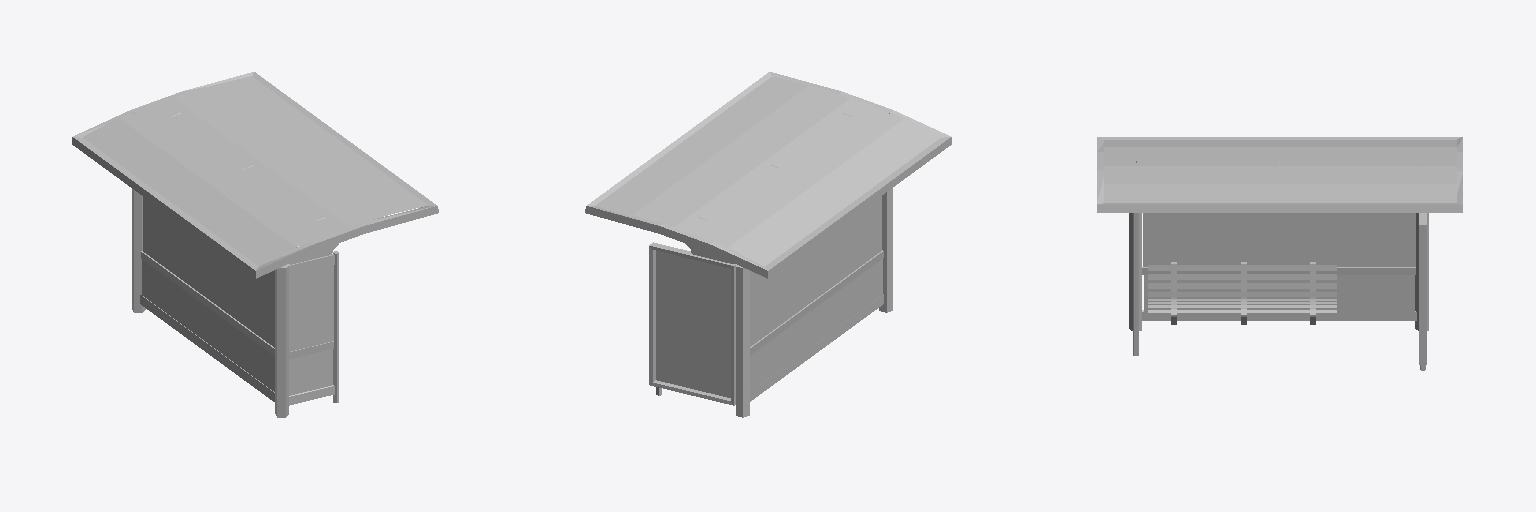
File: BusStop_LOD2.obj
3 renders of one model, left to right at view 1: azimuth 30°, elevation 25°; view 2: azimuth 150°, elevation 25°; view 3: azimuth 270°, elevation 25°, orthographic.
Visible parts, largest first — view 1: BusStop_LOD2 BusStop; view 2: BusStop_LOD2 BusStop; view 3: BusStop_LOD2 BusStop.
Boxes of the visible parts, <box> form: BusStop_LOD2 BusStop: <box>72,72,438,417</box>; BusStop_LOD2 BusStop: <box>585,72,951,417</box>; BusStop_LOD2 BusStop: <box>1097,137,1462,370</box>.
Bounding box in the file's own units: 296 × 294 × 512.